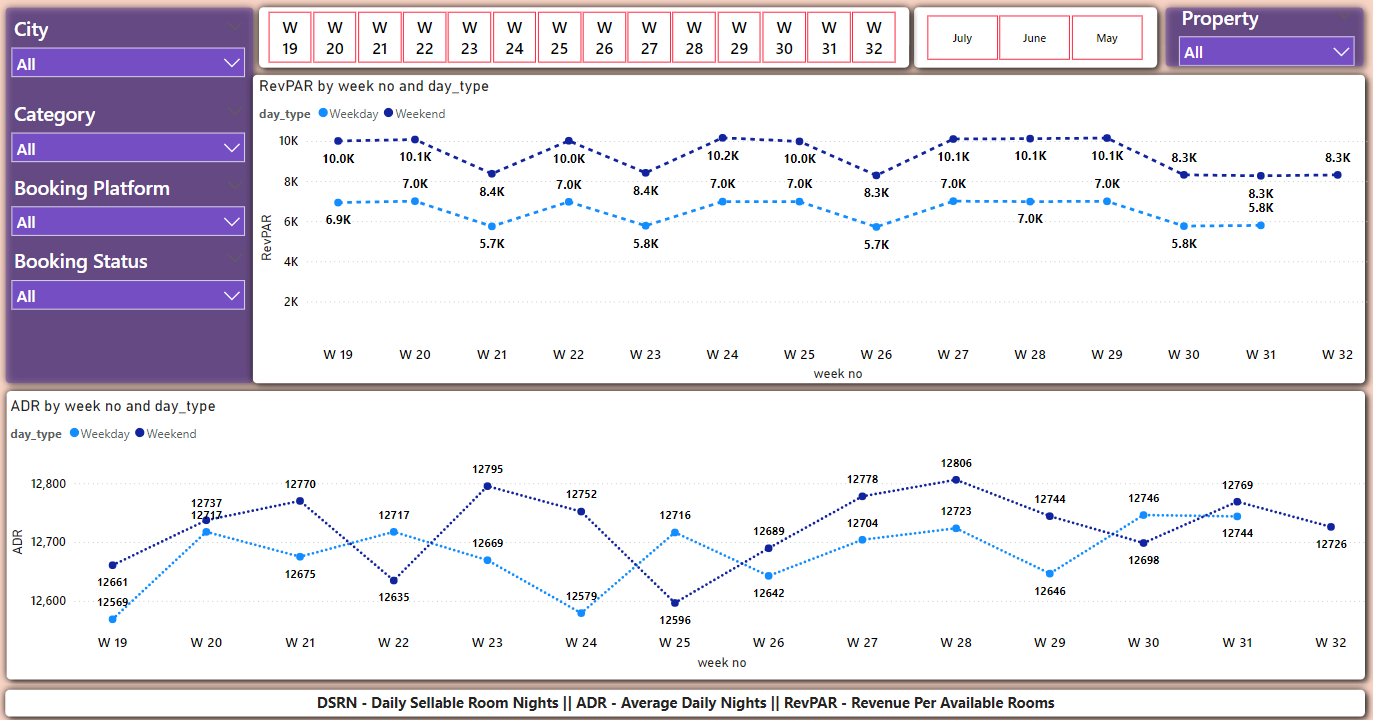

The dashboard page shown, as its layout file describes it:
{"tool":"powerbi","page":{"name":"Day type and Weekly Trends ","canvas":[1500,792],"ordinal":2},"visuals":[{"type":"shape","box":[0,0,288.9,427.9],"z":1000},{"type":"shape","box":[269.8,73.6,1230.5,354.3],"z":2000},{"type":"shape","box":[990.7,0,283,83.8],"z":3000},{"type":"slicer","fields":{"Values":["dim_date.Month Name"]},"box":[987.9,11,284.4,61.8],"z":4000},{"type":"slicer","fields":{"Values":["dim_hotels.city"]},"box":[5.5,12.4,274.8,87.9],"z":5000},{"type":"shape","box":[276.2,0,726.8,83.8],"z":6000},{"type":"slicer","fields":{"Values":["dim_date.week no"]},"box":[269.3,6.9,733.7,67.3],"z":7000},{"type":"slicer","fields":{"Values":["dim_hotels.category"]},"box":[5.5,104.4,274.8,83.8],"z":8000},{"type":"slicer","fields":{"Values":["fact_booking.booking_platform"]},"box":[5.5,185.5,274.8,79.7],"z":9000},{"type":"slicer","fields":{"Values":["fact_booking.booking_status"]},"box":[5.5,265.2,274.8,87.9],"z":10000},{"type":"shape","box":[0,743.9,1500.3,47.3],"z":11000},{"type":"textbox","box":[338.8,750.2,822.7,39.4],"z":12000},{"type":"shape","box":[1264.9,0,234.4,82.9],"z":13000},{"type":"slicer","fields":{"Values":["dim_hotels.property_name"]},"box":[1277.8,0,211.5,72.9],"z":14000},{"type":"lineChart","fields":{"Category":["dim_date.week no"],"Series":["dim_date.day_type"],"Y":["fact_aggregated_bookings.RevPAR"]},"box":[280.7,84.5,1219.6,336.6],"z":16000},{"type":"shape","box":[1.4,418.3,1498.9,332.5],"z":17000},{"type":"lineChart","fields":{"Category":["dim_date.week no"],"Series":["dim_date.day_type"],"Y":["dim_date.ADR"]},"box":[9.3,433.3,1490.7,302.5],"z":18000}]}

Visuals, with their boxes in screenshot pixels (x1, y1, x2, y2), scaled from the page's 1500x792 canvas onto the 1373x720 screenshot:
shape: (0,0,264,389)
shape: (247,67,1372,389)
shape: (907,0,1166,76)
slicer - dim_date.Month Name: (904,10,1165,66)
slicer - dim_hotels.city: (5,11,257,91)
shape: (253,0,918,76)
slicer - dim_date.week no: (246,6,918,67)
slicer - dim_hotels.category: (5,95,257,171)
slicer - fact_booking.booking_platform: (5,169,257,241)
slicer - fact_booking.booking_status: (5,241,257,321)
shape: (0,676,1372,719)
textbox: (310,682,1063,718)
shape: (1158,0,1372,75)
slicer - dim_hotels.property_name: (1170,0,1363,66)
lineChart - dim_date.week no x dim_date.day_type: (257,77,1372,383)
shape: (1,380,1372,683)
lineChart - dim_date.week no x dim_date.day_type: (9,394,1372,669)
